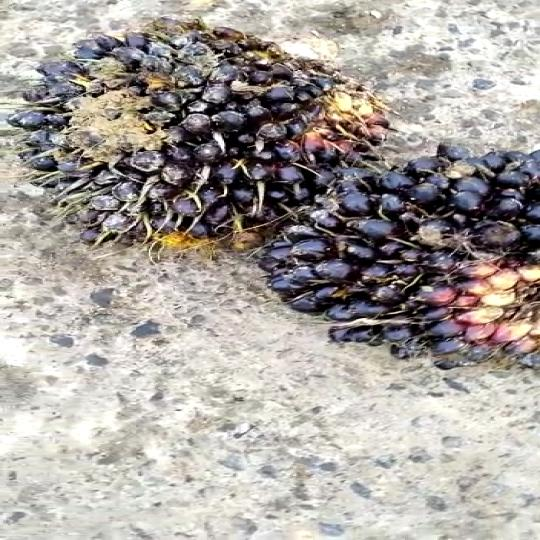mentah: (0, 1, 360, 260), (275, 129, 540, 370)
